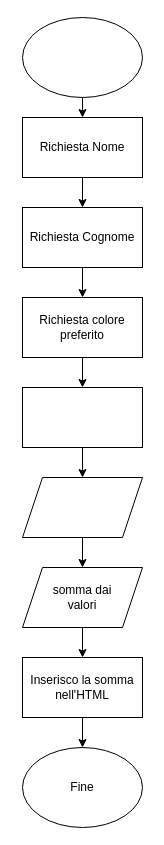
The diagram is 164 pixels wide and 845 high, and some of its shapes have lost their labels. The shapes that lost their labels are listed below. From the top down, each one's box as (x1, y1, x2, y2) in pixels, then its label:
(22, 16, 142, 98): Creazione Password
(22, 386, 142, 448): Definire valore 21
(22, 476, 142, 538): Recupero dei valori
